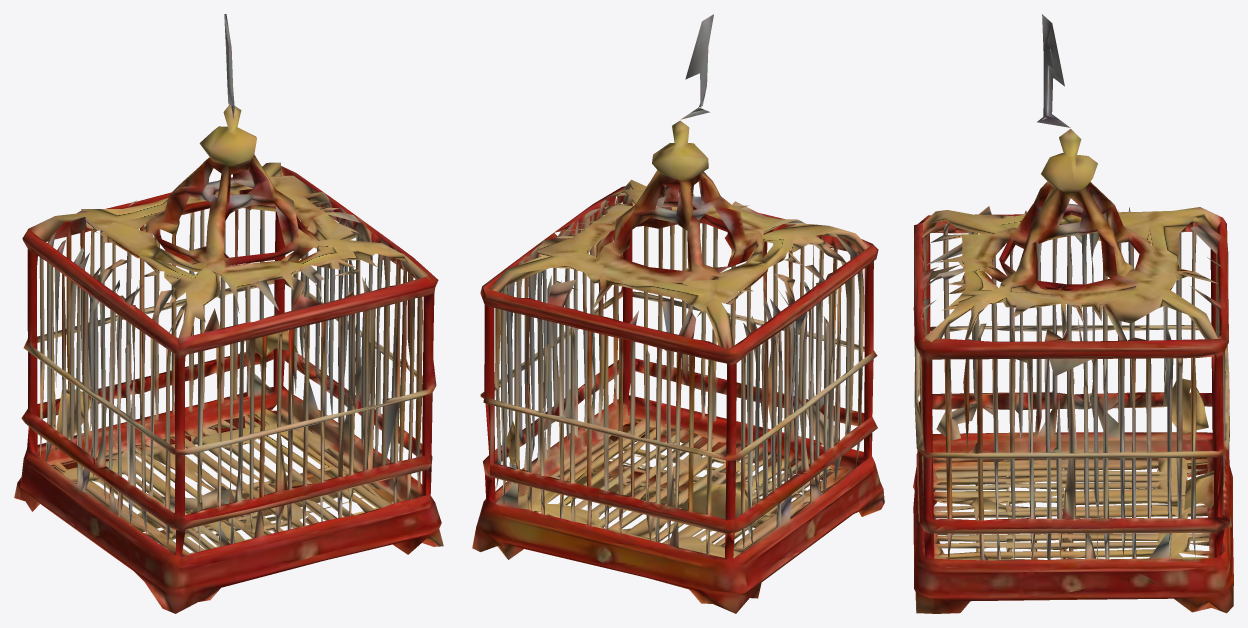
File: niaolong2.glb
3 renders of one model, left to right at view 1: azimuth 30°, elevation 25°; view 2: azimuth 150°, elevation 25°; view 3: azimuth 270°, elevation 25°, orthographic. The views are drawn at different scales.
Parts seen in each view (by area): view 1: tripo_node_4492e78f-c189-428e-ad5f-300613f982b9; view 2: tripo_node_4492e78f-c189-428e-ad5f-300613f982b9; view 3: tripo_node_4492e78f-c189-428e-ad5f-300613f982b9.
Part boxes in pixels (x1,y1,x2,y2): tripo_node_4492e78f-c189-428e-ad5f-300613f982b9: (14,14,443,613); tripo_node_4492e78f-c189-428e-ad5f-300613f982b9: (472,14,884,613); tripo_node_4492e78f-c189-428e-ad5f-300613f982b9: (913,14,1233,613).
Size of the model in its own units: 0.5572 by 1 by 0.5538.
1 material, 1 textured.
